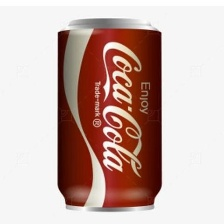can: (53, 17, 164, 215)
